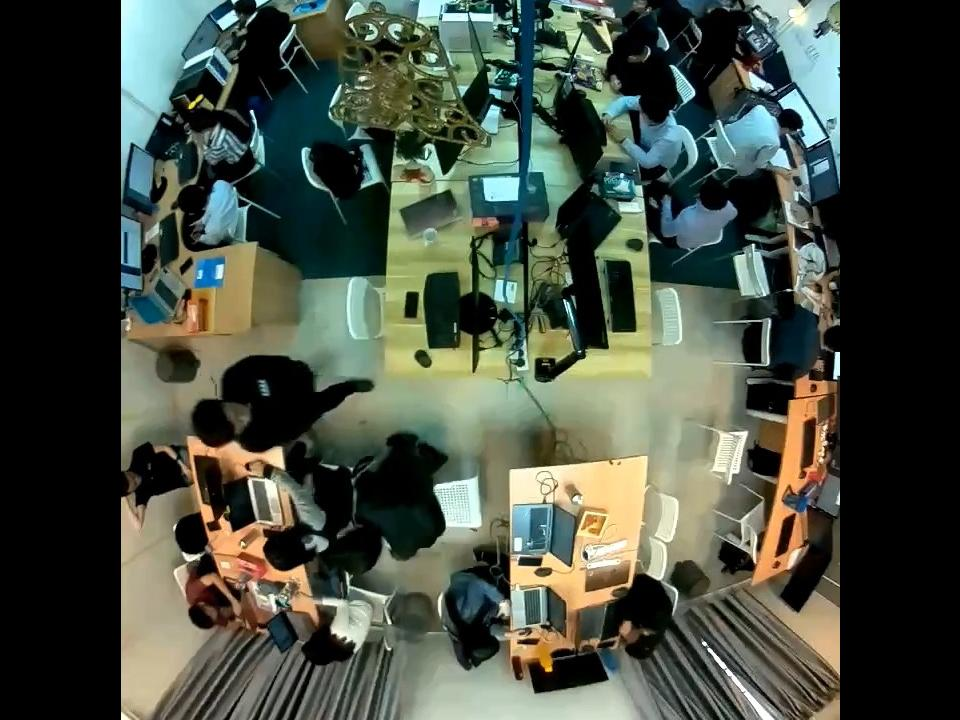name-tag: (256, 378, 270, 397)
